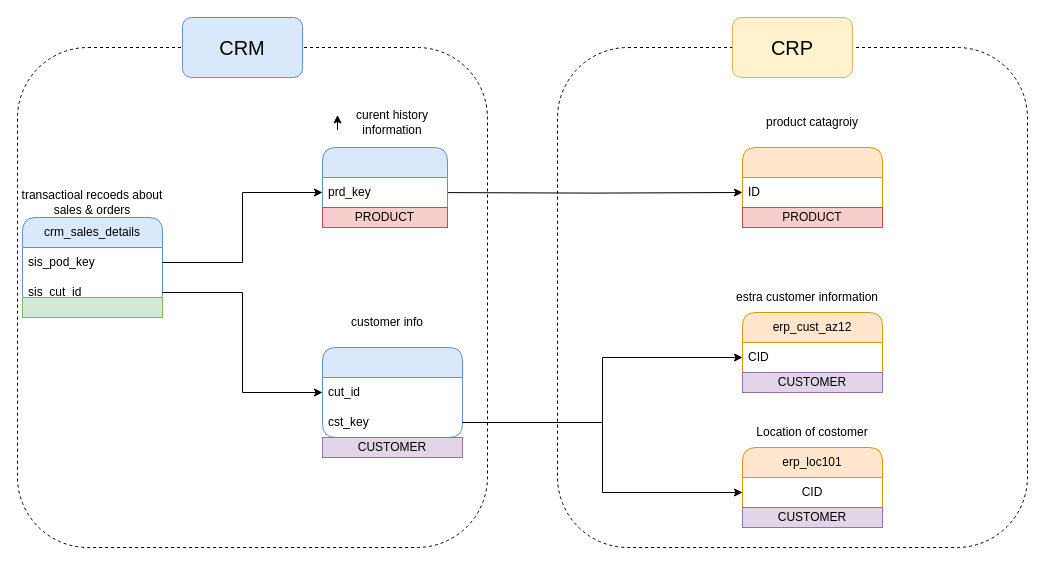
This 1045x565 diagram has some shape labels left out. Each missing label, with the box of its shape:
crm_cust_info: (322, 346, 462, 438)
crm_pod_info: (322, 146, 448, 228)
erp_px_cat_d1v2: (742, 146, 882, 228)
SALES: (22, 296, 162, 318)
